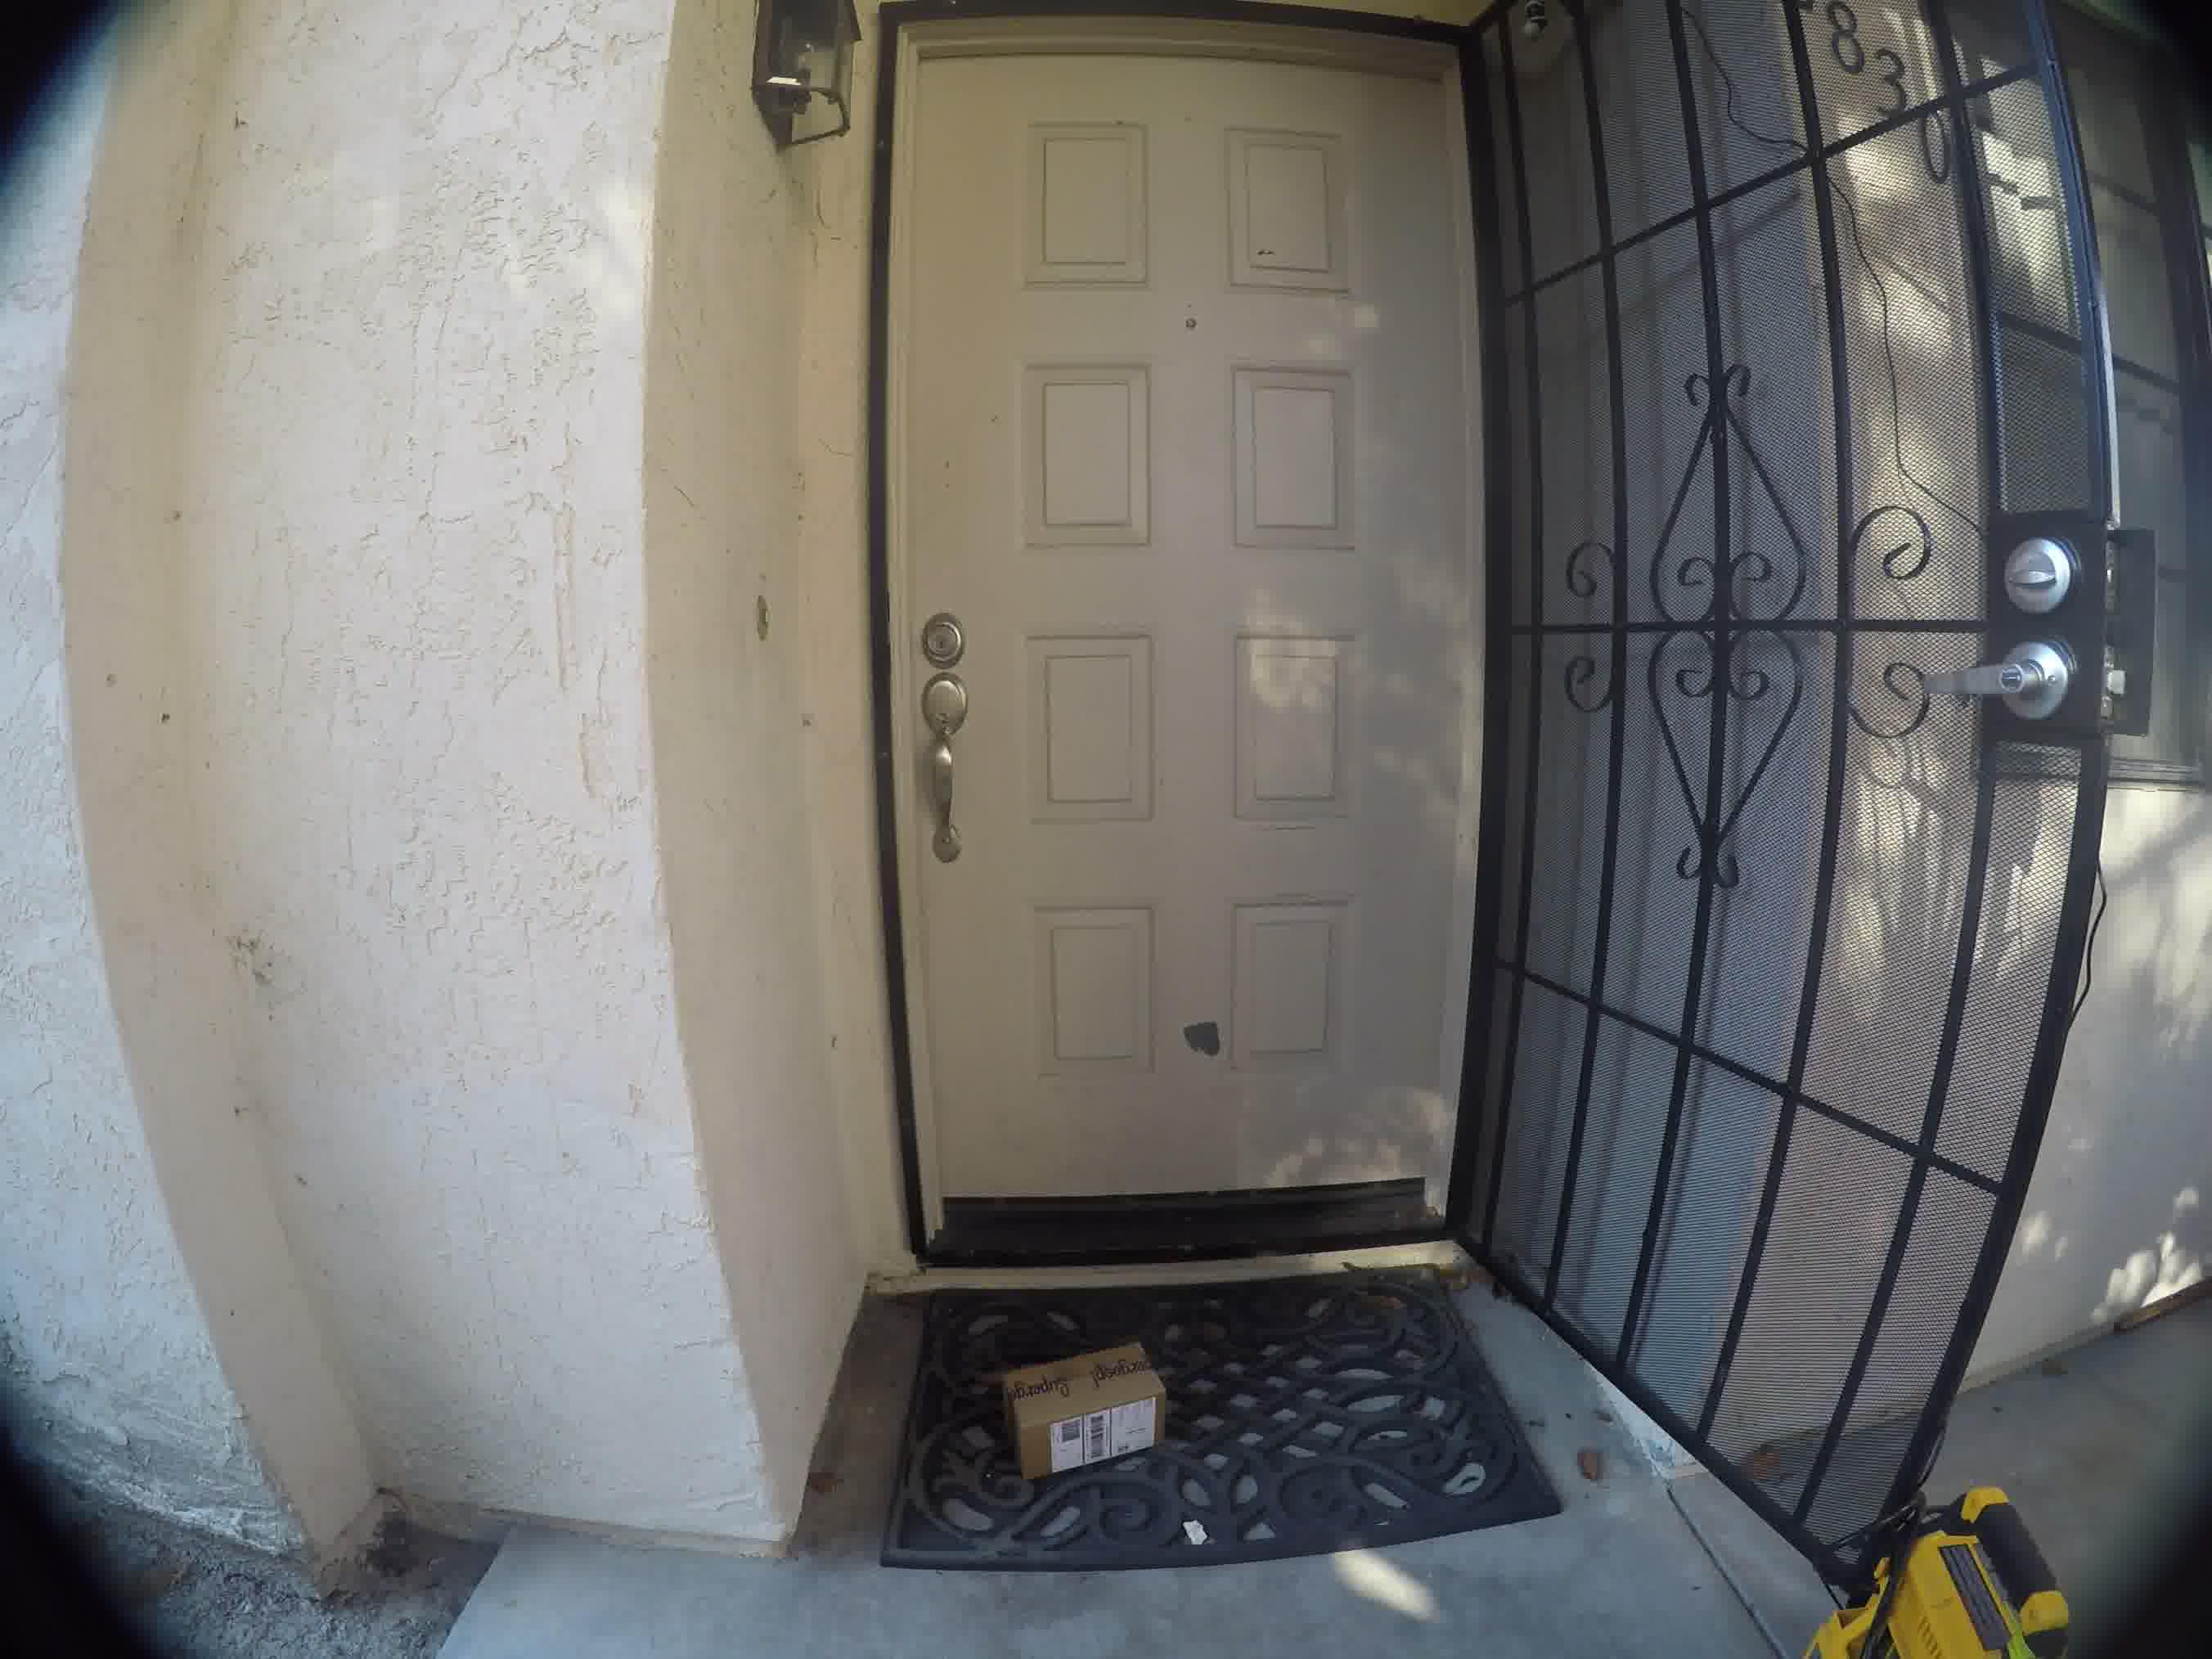box: (970, 1351, 1184, 1474)
